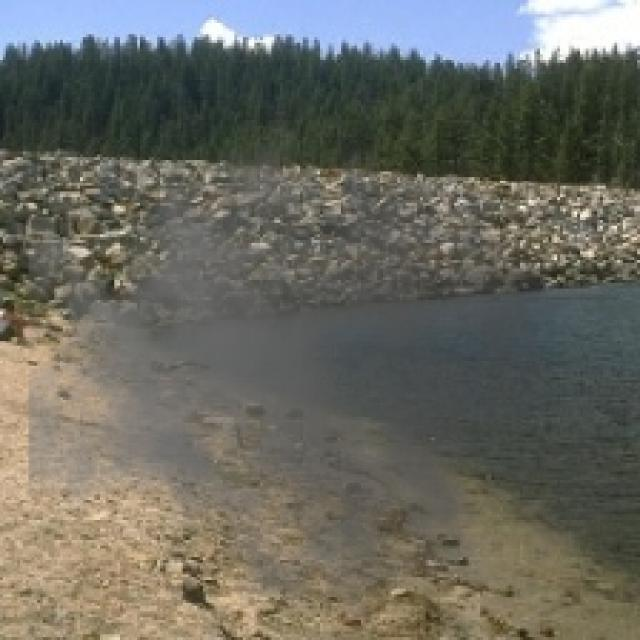smoke: (29, 83, 554, 634)
